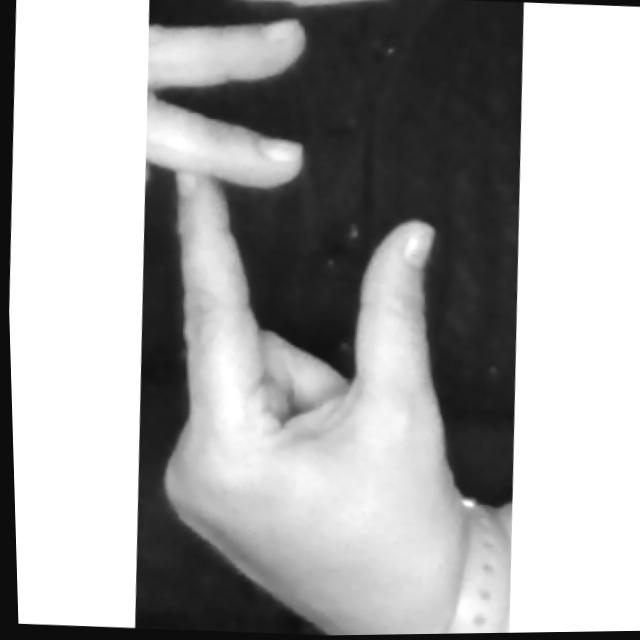U--: (116, 5, 541, 638)
